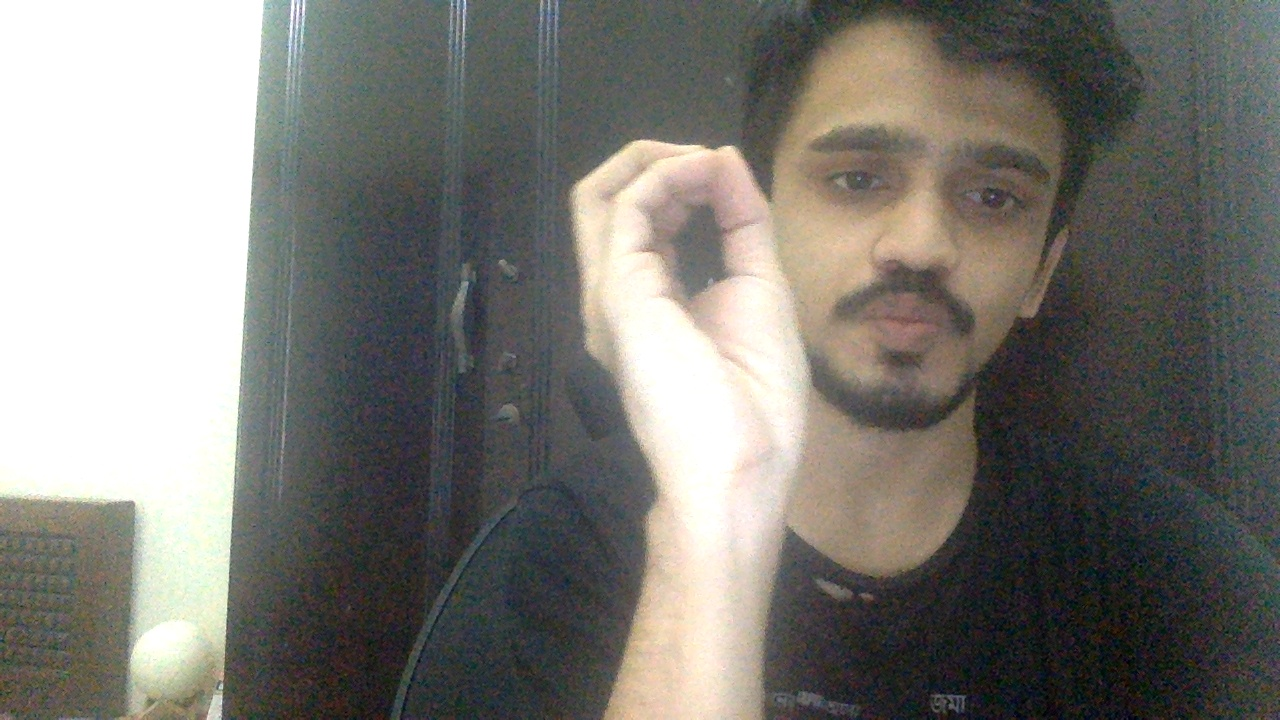zero: (569, 135, 811, 506)
